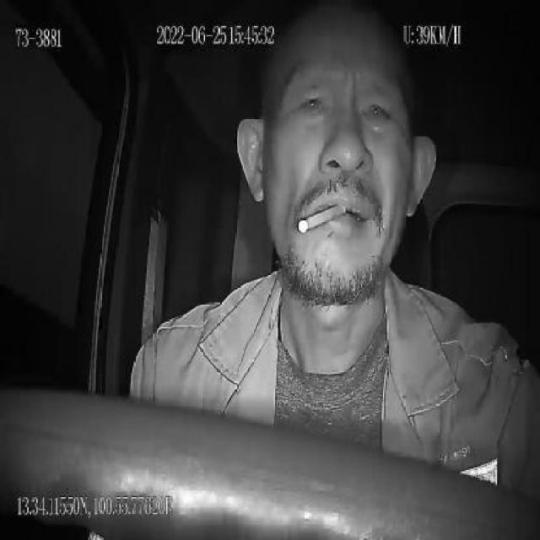smoking: (298, 205, 345, 234)
